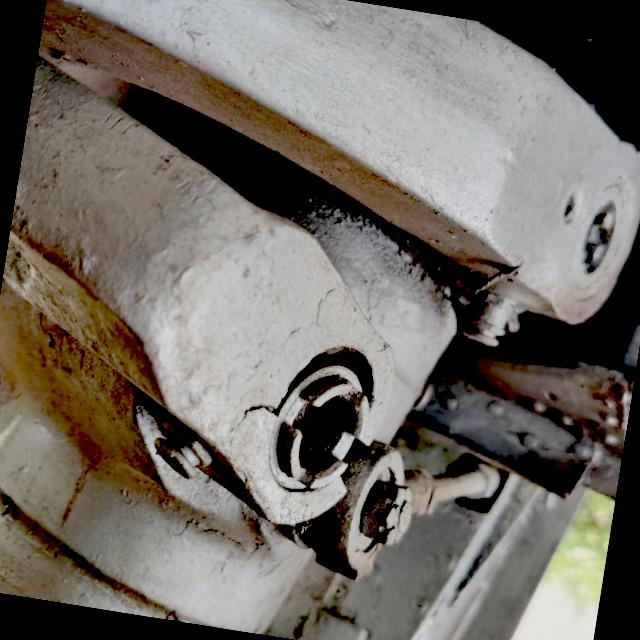crack: (230, 392, 286, 439)
